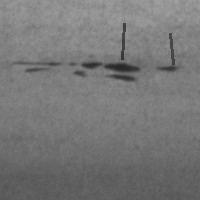inclusion: (9, 56, 147, 83), (151, 61, 183, 75), (168, 31, 175, 66), (120, 21, 126, 61)
